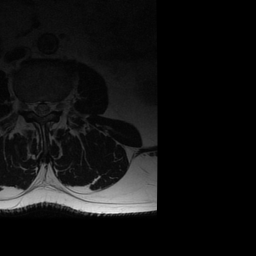CCS_normal: (39, 94, 45, 122)
LFS_normal: (53, 94, 60, 116)
LLS_normal: (45, 92, 52, 120)
RFS_normal: (24, 93, 32, 117)
RLS_normal: (32, 93, 39, 120)
